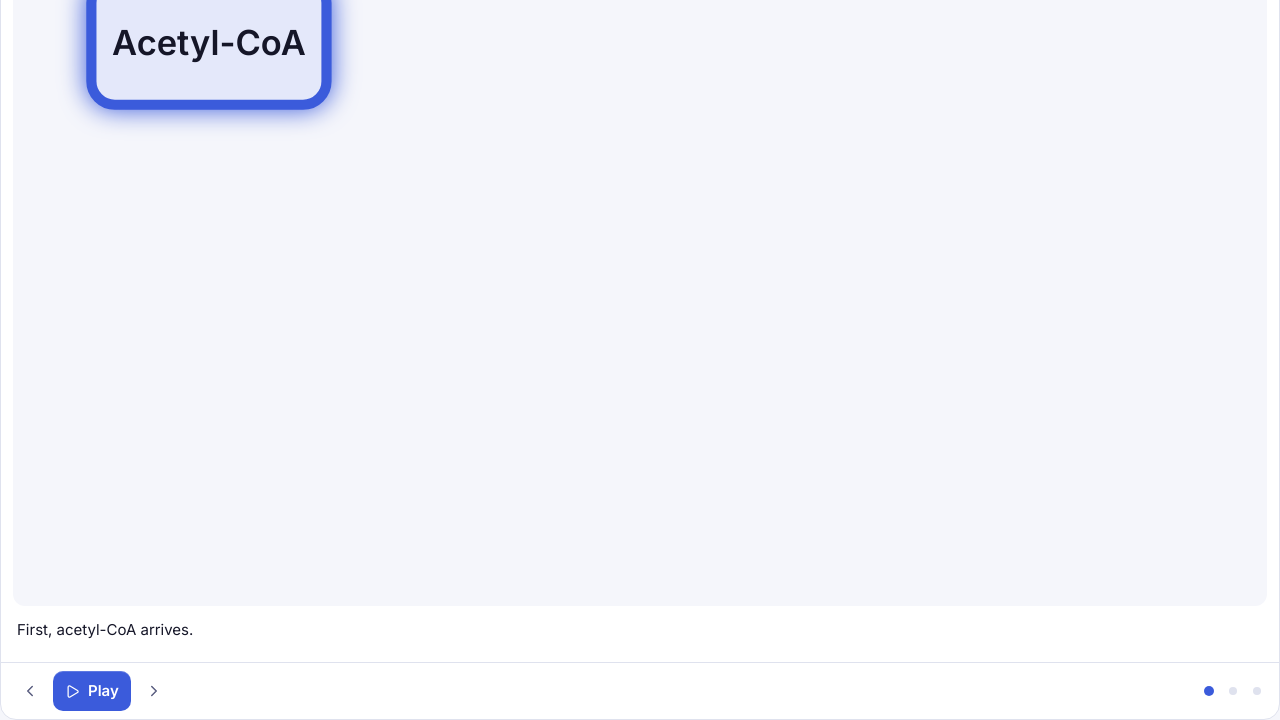
Test: the lesson player › goes to any step from the dots
(page scrolled)
Click the button named "Step 3" at {"x": 1257, "y": 691}, box left=1247, top=681, right=1267, bottom=701
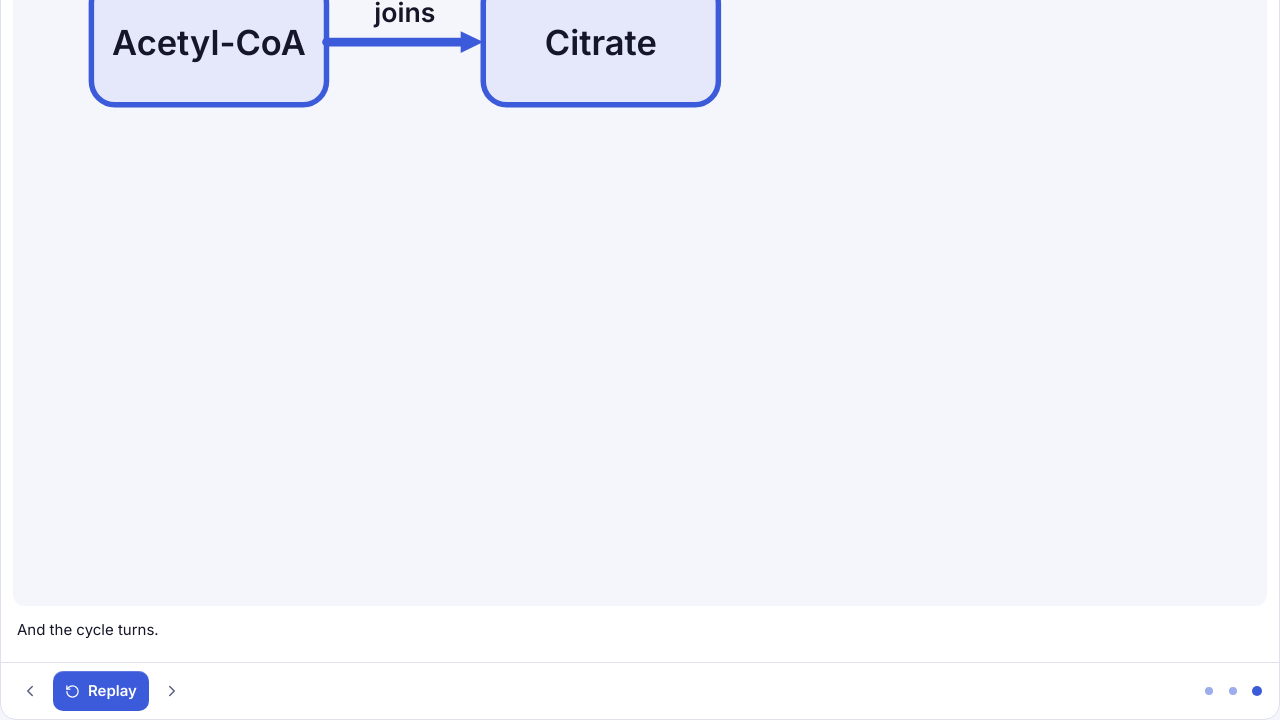
Now the text "And the cycle turns." is shown, box left=17, top=620, right=159, bottom=639
